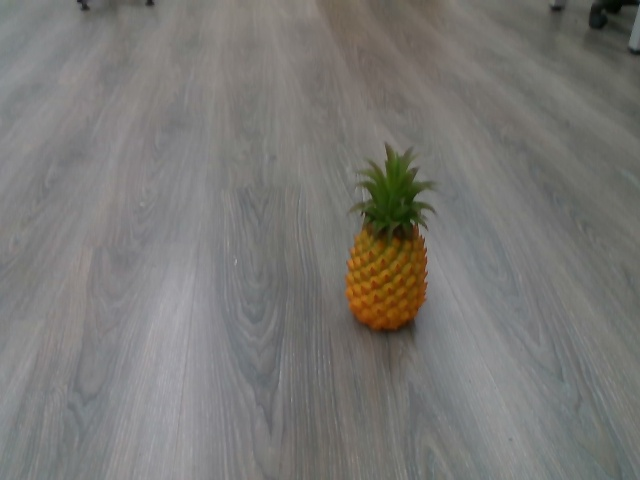pineapple: (342, 139, 445, 336)
